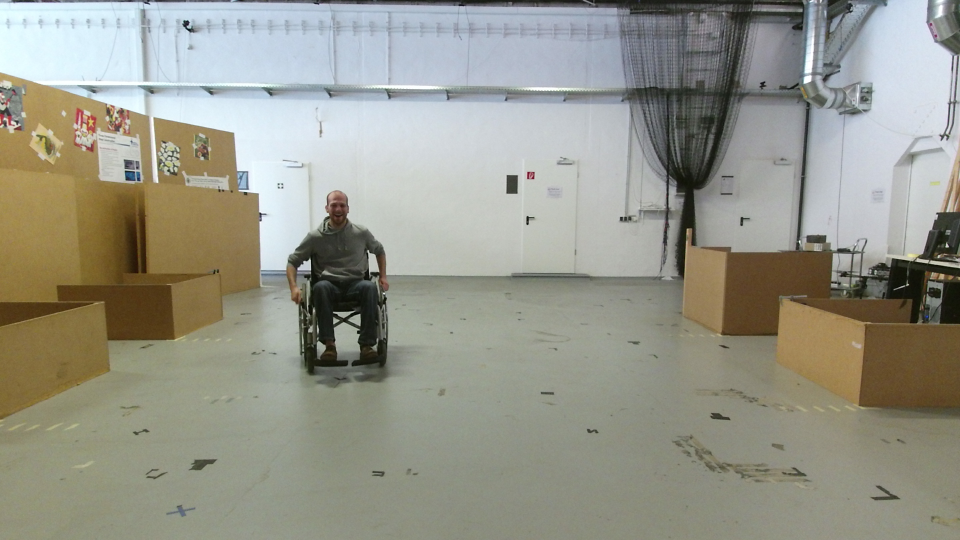wheelchair: (282, 185, 396, 380)
